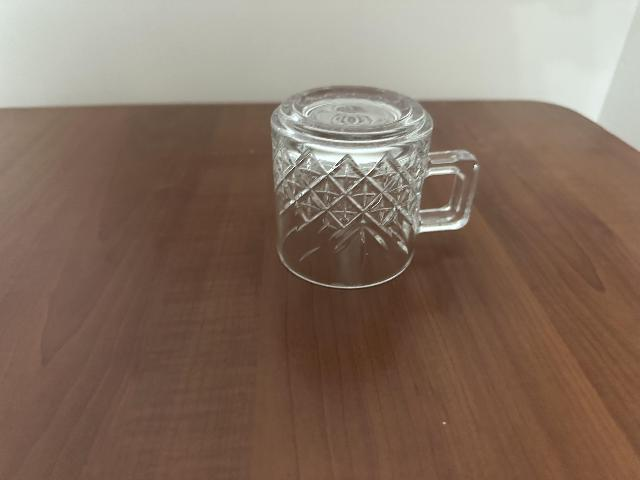Cam: (268, 86, 483, 287)
